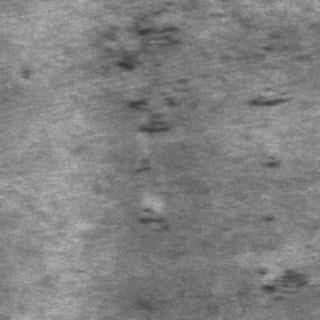rolled pit: (114, 15, 182, 224), (254, 256, 310, 300)
